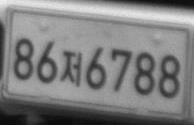6: (84, 46, 107, 90), (36, 39, 58, 84)
7: (111, 47, 132, 92)
8: (158, 53, 181, 99), (134, 51, 156, 95), (13, 37, 34, 80)
저: (60, 50, 82, 87)
